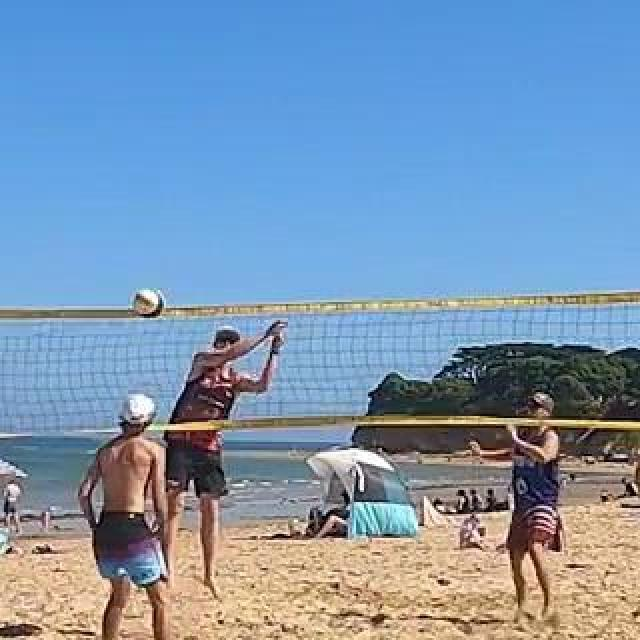volleyball: (131, 288, 163, 316)
